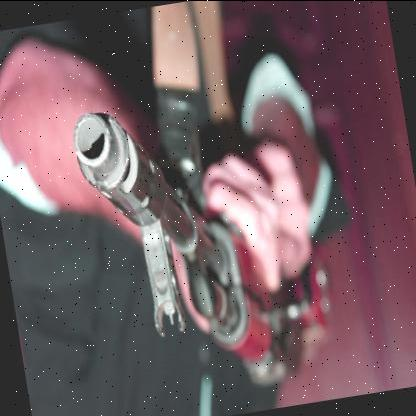rifle: (56, 65, 322, 408)
